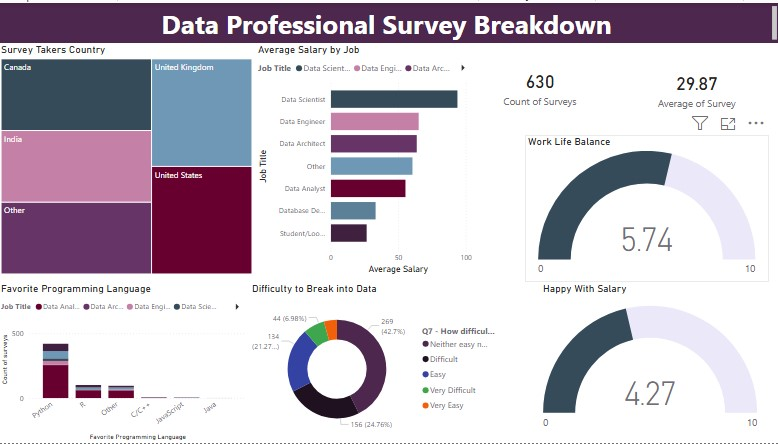

This screenshot's page, from the dashboard's own definition file:
{"tool":"powerbi","page":{"name":"Page 1","canvas":[1280,720],"ordinal":0},"visuals":[{"type":"textbox","box":[0,0,1280,65.9],"z":0},{"type":"card","fields":{"Values":["Count(Data Professional Survey.Unique ID)"]},"box":[767.7,65.5,238.5,142.8],"z":1000},{"type":"card","fields":{"Values":["Avg(Data Professional Survey.Q10 - Current Age)"]},"box":[1006.2,65.5,273.8,149.5],"z":2000},{"type":"barChart","title":"Average Salary by Job","fields":{"Category":["Data Professional Survey.Q1 - Which Title Best Fits your Current Role?.1"],"Y":["Avg(Data Professional Survey.Average Salary)"],"Series":["Data Professional Survey.Q1 - Which Title Best Fits your Current Role?.1"]},"box":[420.7,65.5,360.1,383],"z":3000},{"type":"columnChart","title":"Favorite Programming Language","fields":{"Category":["Data Professional Survey.Q5 - Favorite Programming Language.1.1"],"Y":["CountNonNull(Data Professional Survey.Unique ID)"],"Series":["Data Professional Survey.Q1 - Which Title Best Fits your Current Role?.1"]},"box":[0,456,411,264],"z":4000},{"type":"treemap","title":"Survey Takers Country","fields":{"Group":["Data Professional Survey.Q11 - Which Country do you live in?.1"],"Values":["Count(Data Professional Survey.Q11 - Which Country do you live in?.1)"]},"box":[0,65.5,420.7,383],"z":5000},{"type":"gauge","title":"Work Life Balance","fields":{"Y":["Avg(Data Professional Survey.Q6 - How Happy are you in your Current Position with the following? (Work/Life Balance))"],"MinValue":["Min(Data Professional Survey.Q6 - How Happy are you in your Current Position with the following? (Work/Life Bal"],"MaxValue":["Max(Data Professional Survey.Q6 - How Happy are you in your Current Position with the following? (Work/Life Balance))1"]},"box":[863.3,216.6,398.6,239.8],"z":6000},{"type":"gauge","title":"Happy With Salary","fields":{"Y":["Avg(Data Professional Survey.Q6 - How Happy are you in your Current Position with the following? (Salary))"],"MinValue":["Min(Data Professional Survey.Q6 - How Happy are you in your Current Position with the following? (Salary))1"],"MaxValue":["Max(Data Professional Survey.Q6 - How Happy are you in your Current Position with the following? (Salary))2"]},"box":[886.4,456.4,360.5,262.9],"z":7000},{"type":"donutChart","title":"Difficulty to Break into Data ","fields":{"Category":["Data Professional Survey.Q7 - How difficult was it for you to break into Data?"],"Y":["CountNonNull(Data Professional Survey.Q7 - How difficult was it for you to break into Data?)"]},"box":[411,456,408,264],"z":8000}]}

Visuals, with their boxes in screenshot pixels (x1, y1, x2, y2), scaled from the page's 1280x720 canvas onto the 778x444 screenshot:
textbox: box=[0, 0, 777, 41]
card - Count(Data Professional Survey.Unique ID): box=[467, 40, 612, 128]
card - Avg(Data Professional Survey.Q10 - Current Age): box=[612, 40, 777, 133]
"Average Salary by Job" barChart: box=[256, 40, 475, 277]
"Favorite Programming Language" columnChart: box=[0, 281, 250, 443]
"Survey Takers Country" treemap: box=[0, 40, 256, 277]
"Work Life Balance" gauge: box=[525, 134, 767, 281]
"Happy With Salary" gauge: box=[539, 281, 758, 443]
"Difficulty to Break into Data " donutChart: box=[250, 281, 498, 443]
